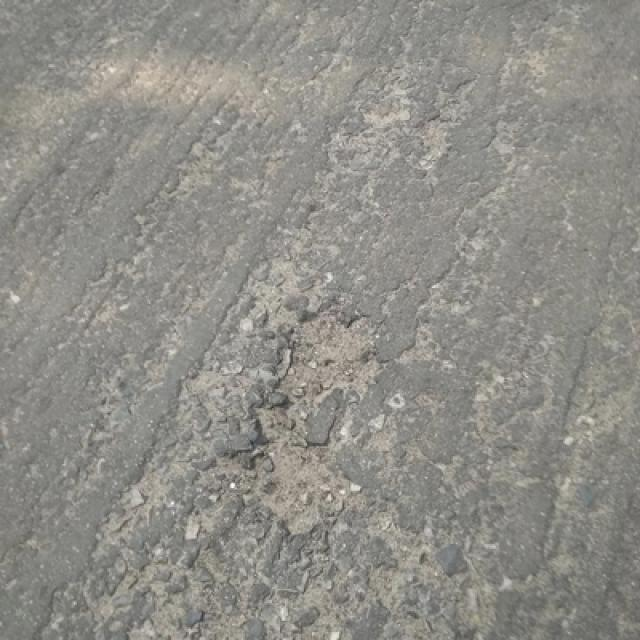jalan_berlubang: (186, 401, 378, 528), (245, 277, 382, 407)
